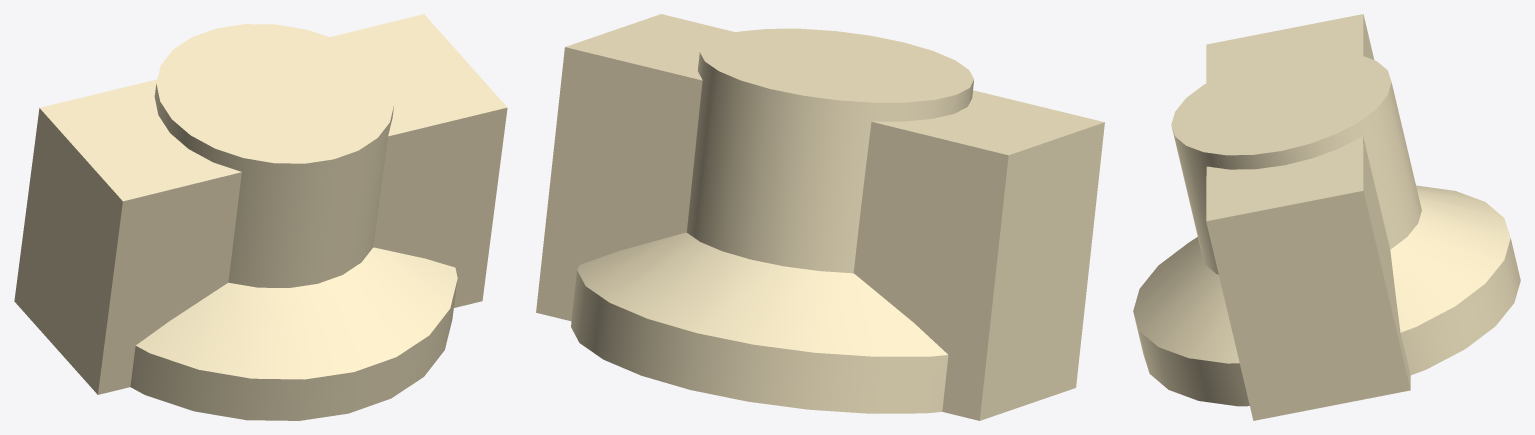
The model's file is original-127.obj.
3 renders of one model, left to right at view 1: azimuth 30°, elevation 25°; view 2: azimuth 150°, elevation 25°; view 3: azimuth 270°, elevation 25°, orthographic. The views are drawn at different scales.
Visible parts, largest first — view 1: Group126/mesh404/mesh404-geometry#mesh404-geometry; view 2: Group126/mesh404/mesh404-geometry#mesh404-geometry; view 3: Group126/mesh404/mesh404-geometry#mesh404-geometry.
Boxes of the visible parts, left/top/right/bottom form: Group126/mesh404/mesh404-geometry#mesh404-geometry: left=14, top=14, right=507, bottom=420; Group126/mesh404/mesh404-geometry#mesh404-geometry: left=536, top=14, right=1104, bottom=420; Group126/mesh404/mesh404-geometry#mesh404-geometry: left=1133, top=14, right=1520, bottom=420.
Bounding box in the file's own units: 0.0573 × 0.0411 × 0.0531.
